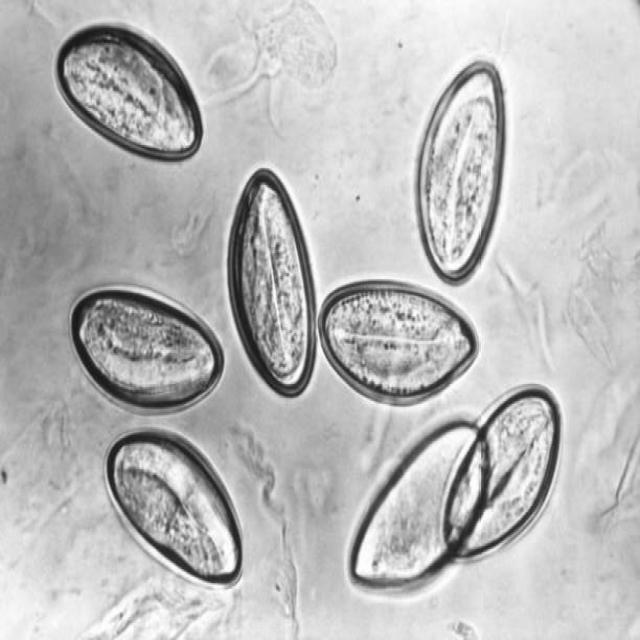Enterobius Vermicularis: (339, 412, 491, 606), (431, 374, 566, 576), (102, 423, 253, 603), (219, 160, 329, 406), (406, 46, 516, 290), (61, 272, 227, 430), (314, 272, 485, 420), (51, 11, 209, 163)
